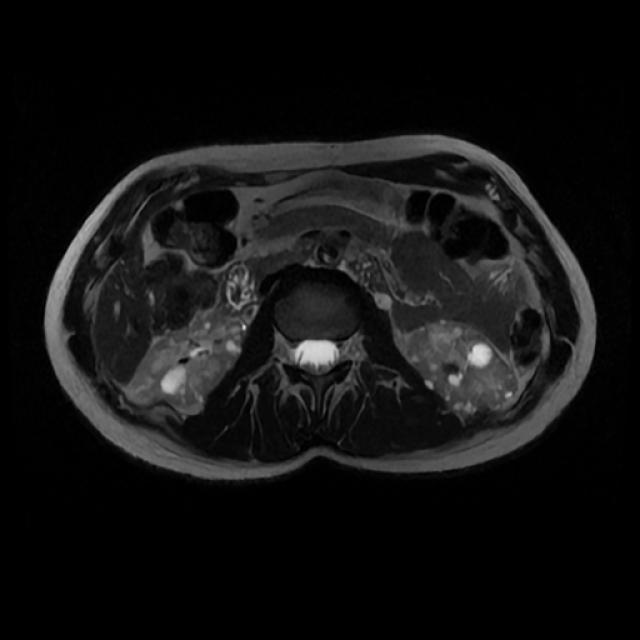sag: (126, 305, 246, 407)
sol: (405, 322, 519, 416)
